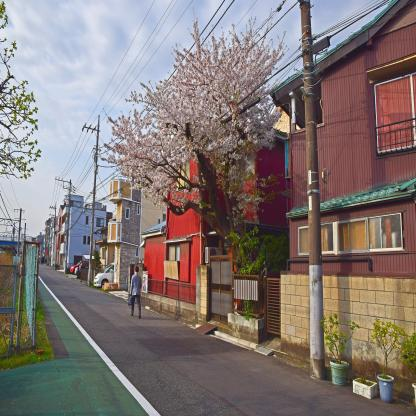Someiyoshino: (106, 29, 281, 199)
